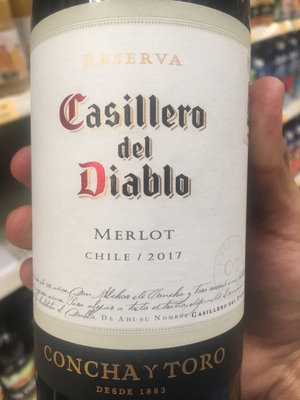casillero del diablo merlot: (25, 1, 257, 399)
